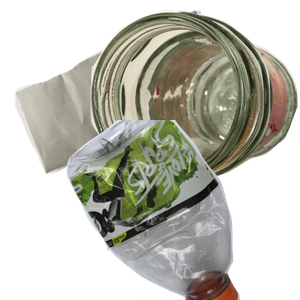glass: (90, 10, 300, 184)
paper: (12, 10, 240, 176)
plastic: (64, 120, 300, 300)
trash: (104, 152, 280, 300)
